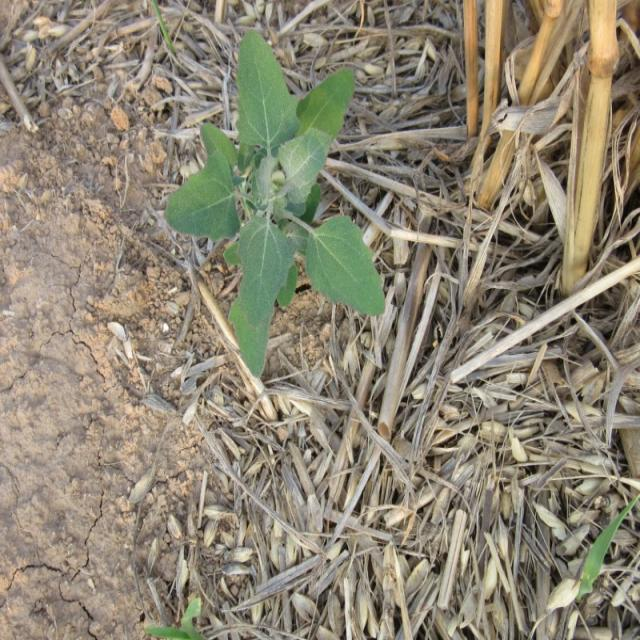ca: (167, 27, 385, 376)
